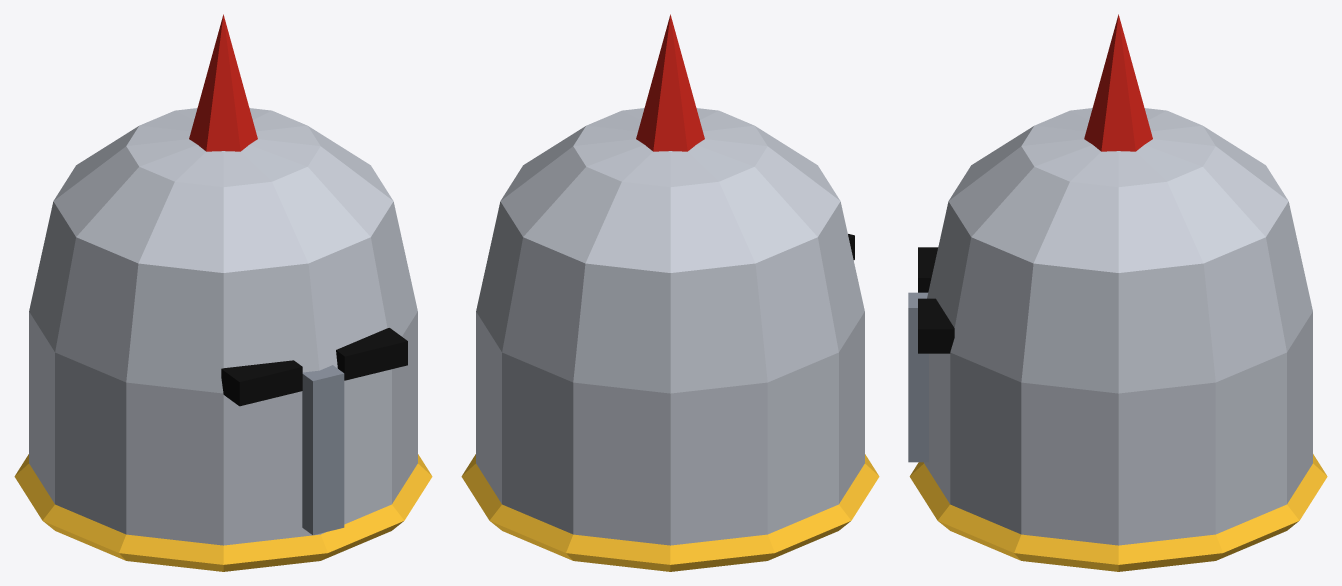
File: helmet.fbx
The picture shows the model from 3 angles, left to right: view 1: azimuth 30°, elevation 25°; view 2: azimuth 150°, elevation 25°; view 3: azimuth 270°, elevation 25°; orthographic projection.
Parts seen in each view (by area): view 1: helmet; view 2: helmet; view 3: helmet.
Boxes of the visible parts, x1,y1,x2,y2 form: helmet: (14, 14, 432, 571); helmet: (461, 14, 879, 571); helmet: (908, 14, 1327, 571).
Bounding box in the file's own units: 0.344 × 0.432 × 0.345.
